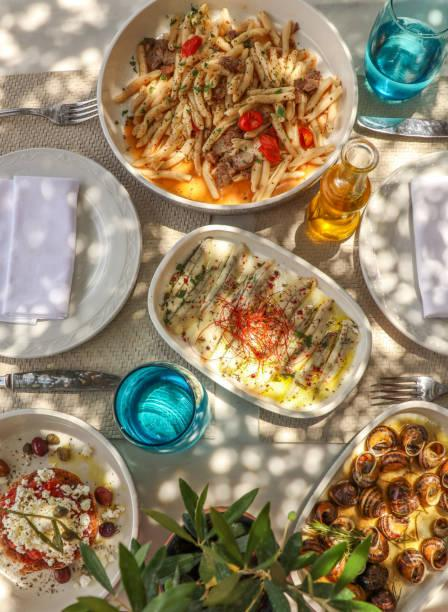Braised Crucian Carp: (96, 0, 362, 215), (144, 229, 377, 426), (284, 398, 448, 612), (0, 411, 137, 608)
